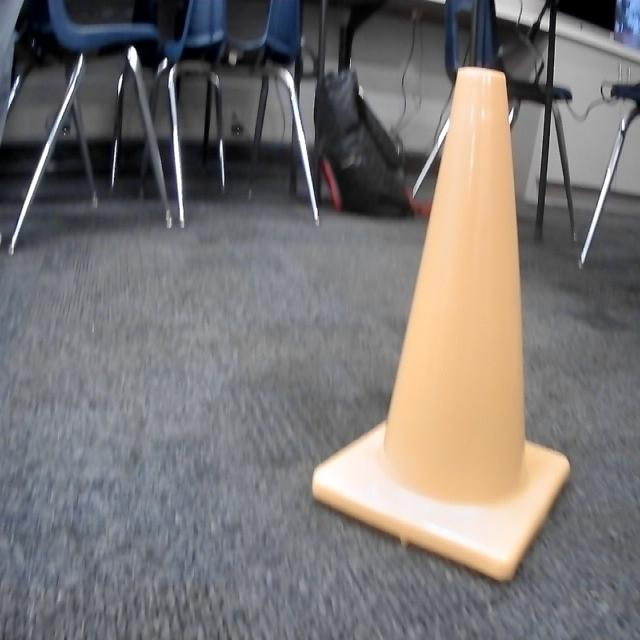cone: (310, 68, 570, 587)
